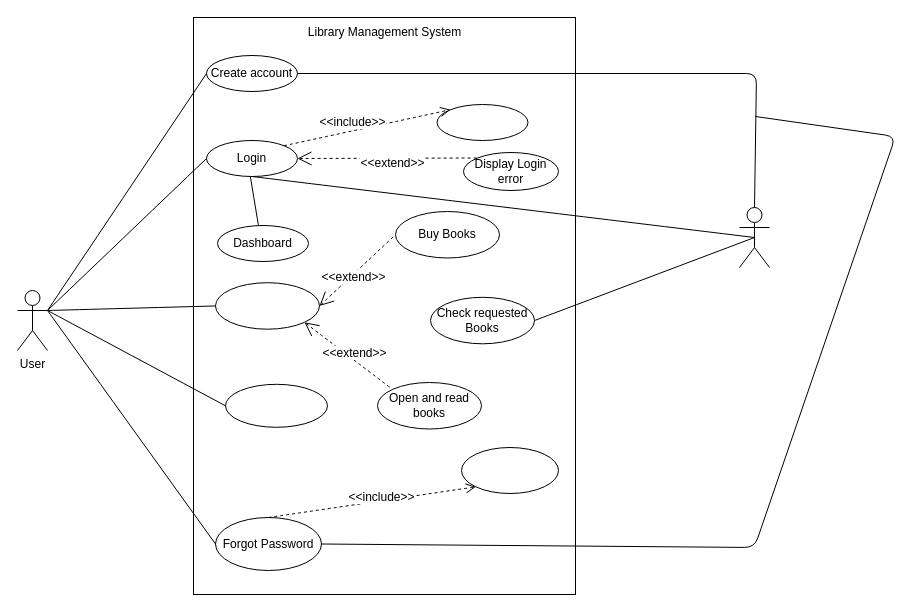
Some shapes in this 914 by 612 pixel diagram are drawn without their labels. The shapes that lost their labels are listed below. From the top down, each one's centre as x and y in pixels, then its label:
(482,122): Verify details
(754,237): Librarian
(267,305): See available books
(276,405): Contact admin
(509,470): Verify Security Questions
